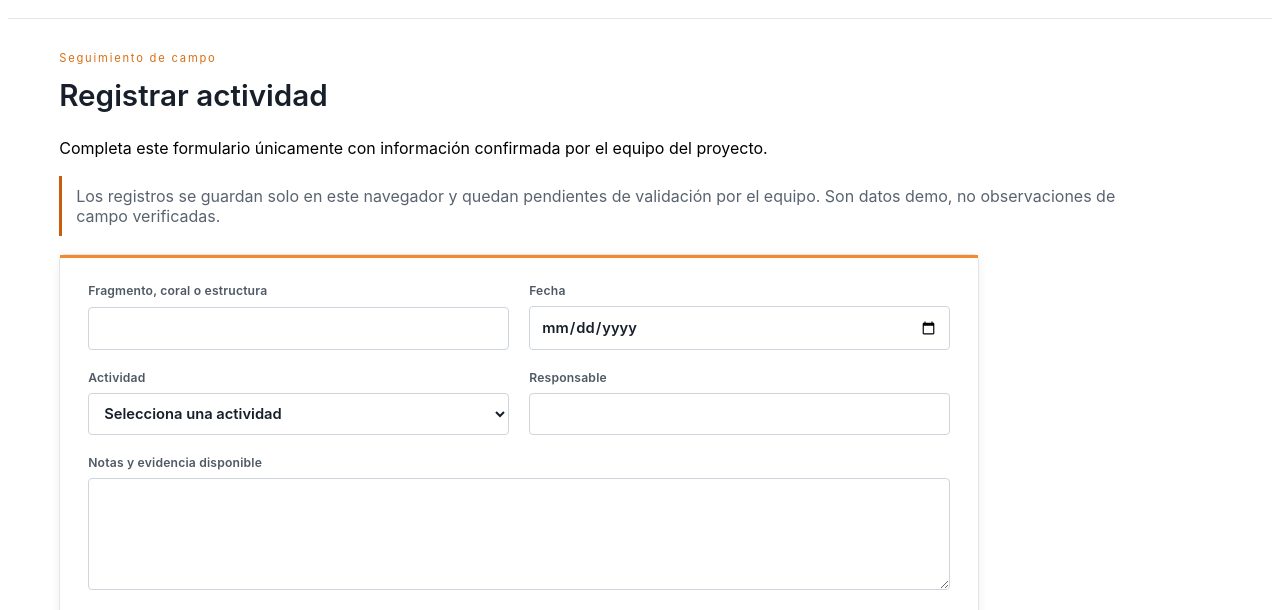
Test: ObservationsPage › persists the observation and displays its saved fields
Type "Estructura A-01" into the field labelled "Fragmento, coral o estructura".
click(299, 329); type("Estructura A-01")  # box x1=88 y1=307 x2=509 y2=350
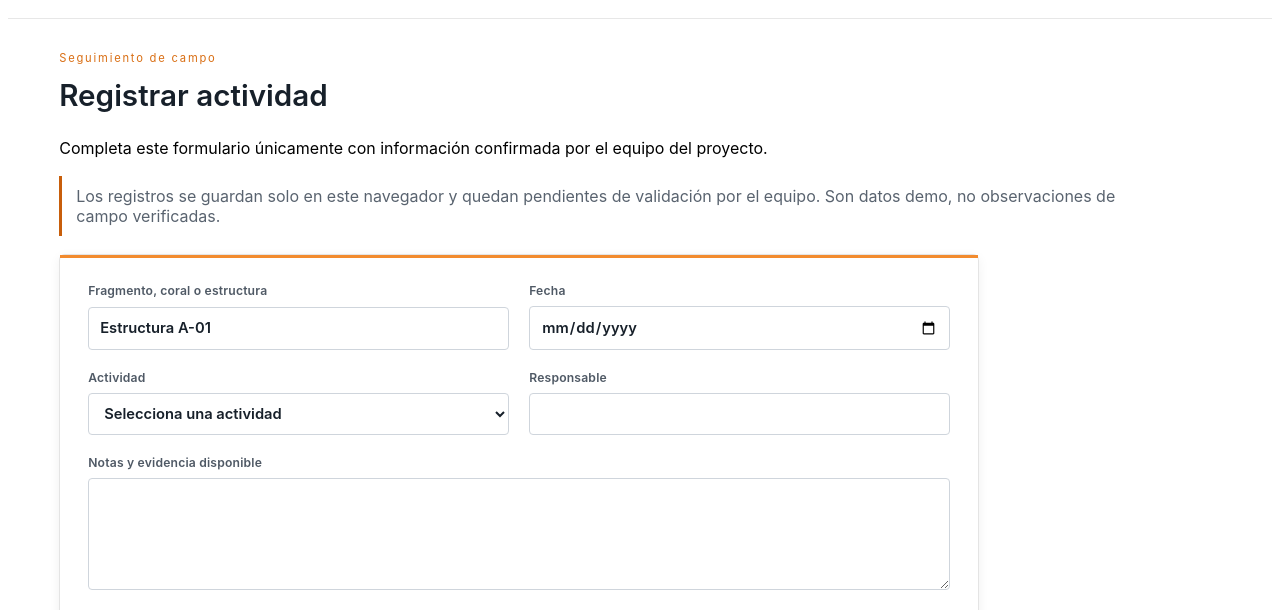
Type "2026-10-08" into the date field labelled "Fecha".
click(740, 328); type("2026-10-08")  # box x1=529 y1=306 x2=950 y2=350
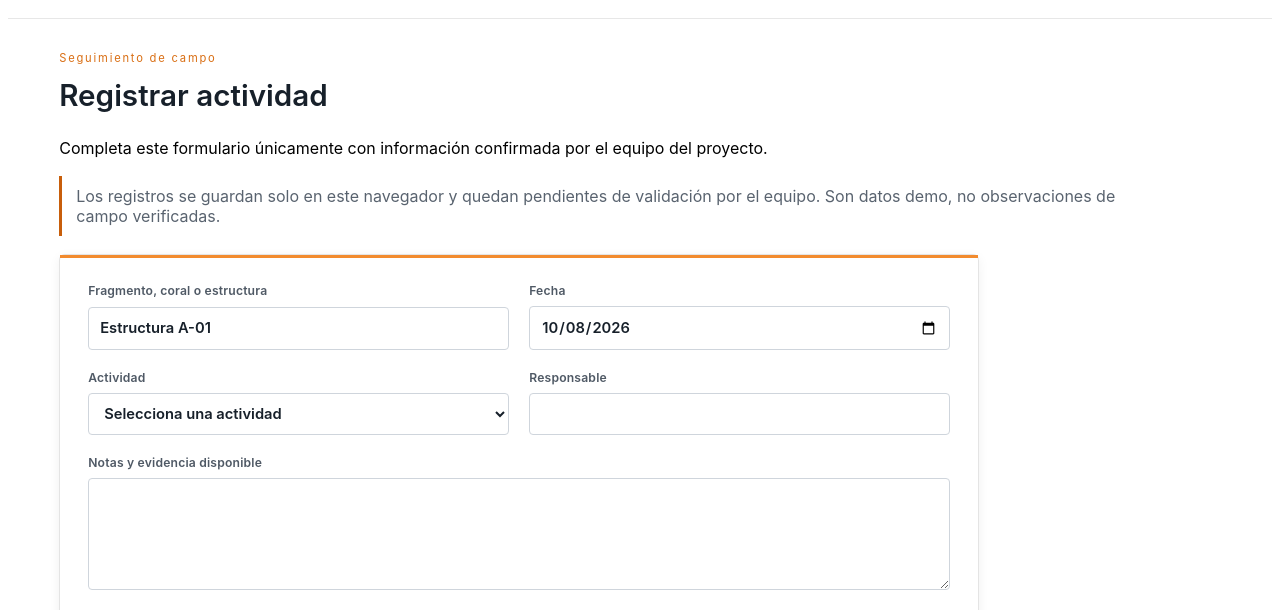
Select "Monitoreo" in the dropdown labelled "Actividad" at {"x": 299, "y": 414}, box x1=88 y1=393 x2=509 y2=435
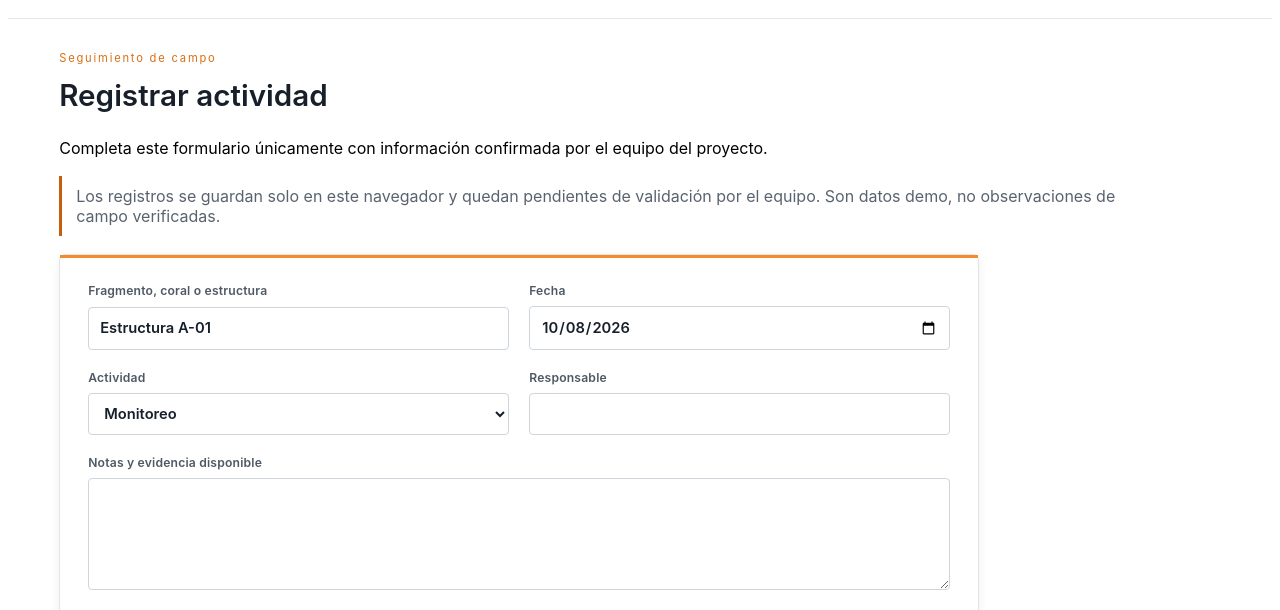
Type "Equipo de prueba" into the field labelled "Responsable".
click(740, 414); type("Equipo de prueba")  # box x1=529 y1=393 x2=950 y2=435
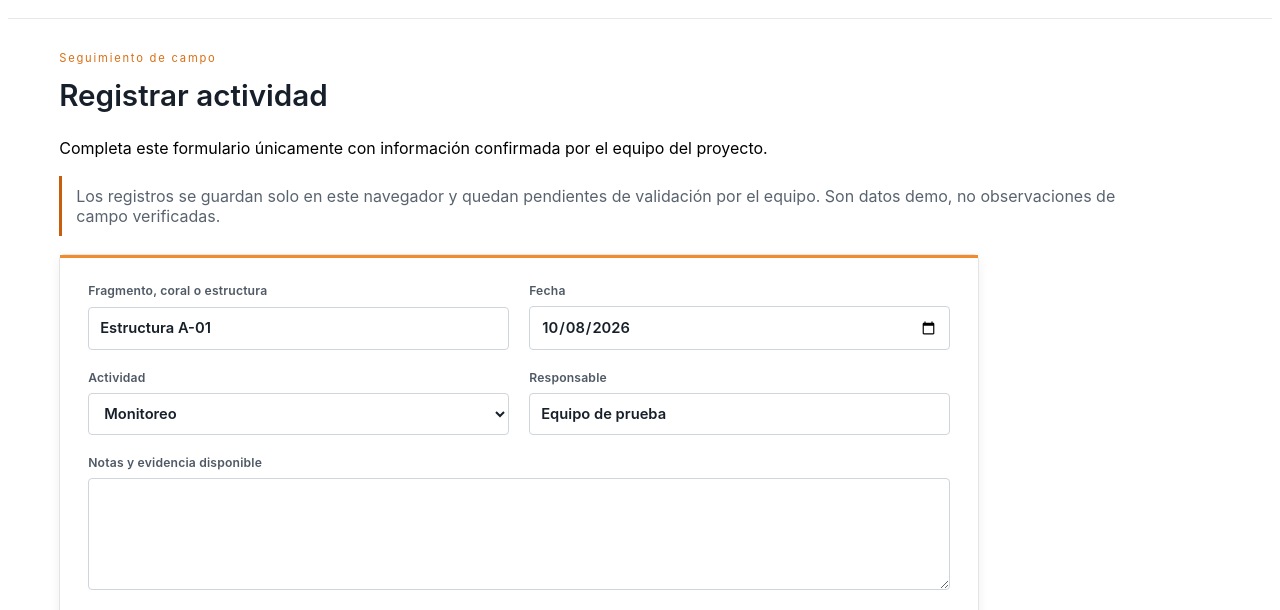
Type "Observación local de prueba" into the text box labelled "Notas y evidencia disponible".
click(519, 534); type("Observación local de prueba")  # box x1=88 y1=478 x2=950 y2=590
(page scrolled)
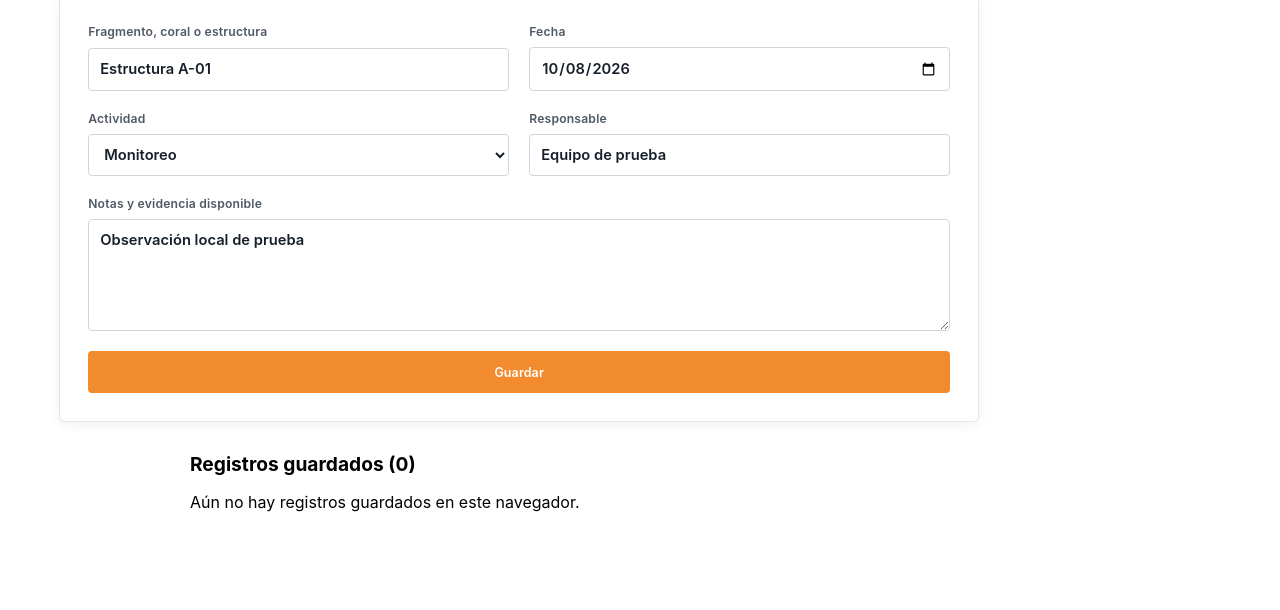
Click the button "Guardar".
click(519, 372)  # box x1=88 y1=351 x2=950 y2=393
(page scrolled)
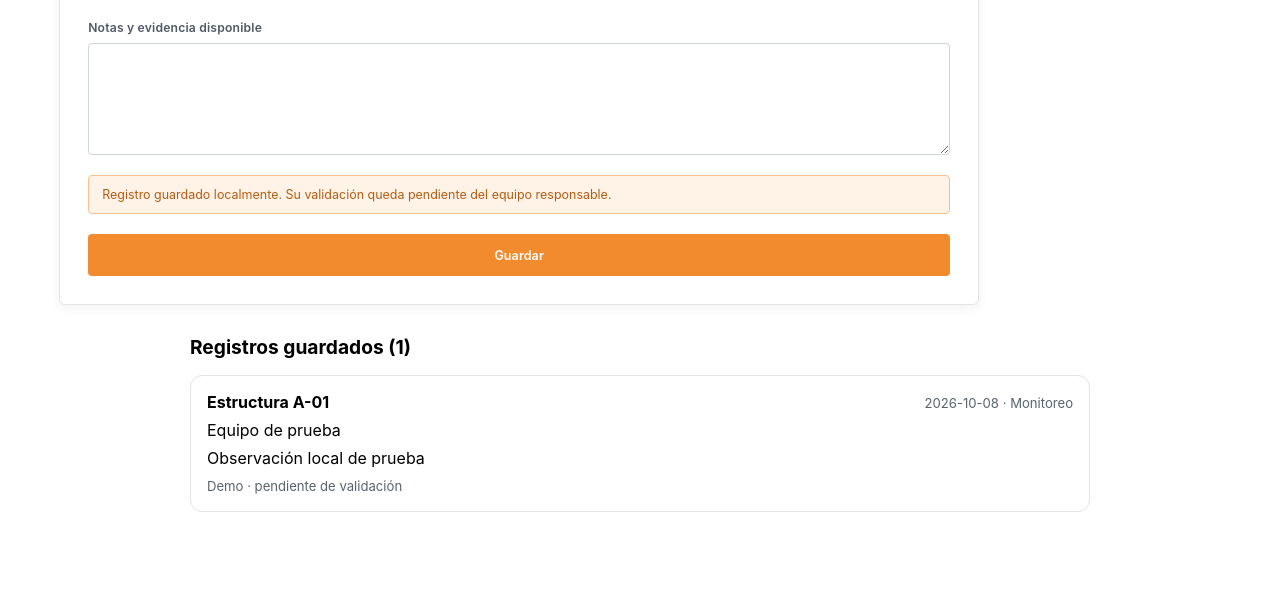
Expected: the message shows "guardado localmente", x1=102 y1=187 x2=612 y2=202
Expected: the text "Estructura A-01" is shown, x1=207 y1=392 x2=329 y2=412
Expected: the text "Observación local de prueba" is shown, x1=207 y1=448 x2=425 y2=468
